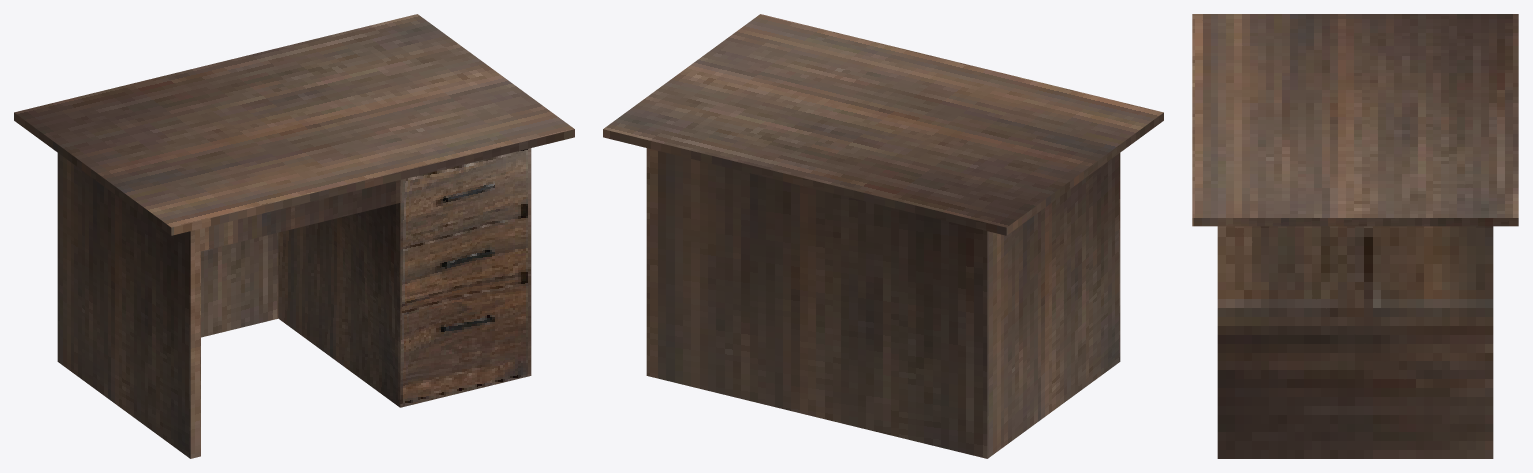
The model's file is desk.glb.
3 views of the same model, side by side, from view 1: azimuth 30°, elevation 25°; view 2: azimuth 150°, elevation 25°; view 3: azimuth 270°, elevation 25° (orthographic). The views are drawn at different scales.
Visible parts, largest first — view 1: desk; view 2: desk; view 3: desk.
Boxes of the visible parts, bbox=[...] form: desk: bbox=[14, 14, 574, 458]; desk: bbox=[603, 14, 1163, 458]; desk: bbox=[1192, 14, 1518, 458].
Size of the model in its own units: 1.39 by 0.8137 by 0.9364.
1 material, 1 textured.
